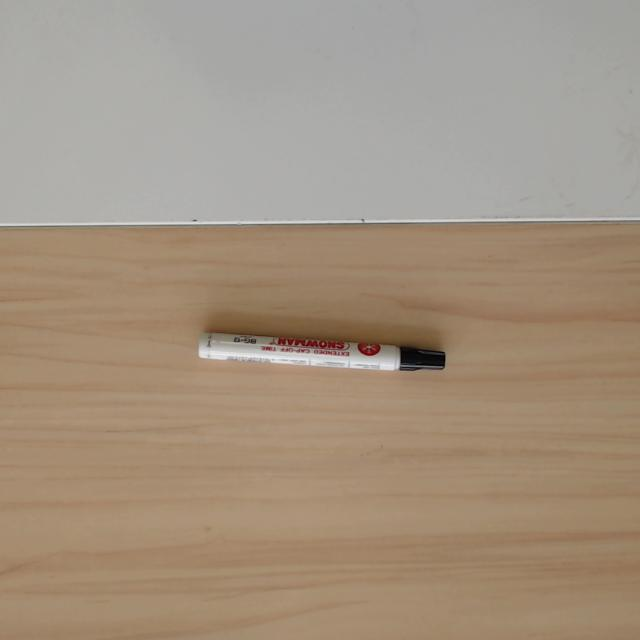Marker-Pen: (196, 332, 446, 375)
